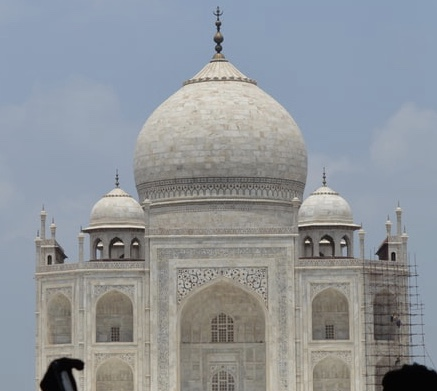Mosque: (18, 27, 416, 370)
